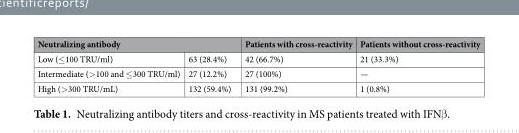table: (36, 37, 479, 94)
table column: (36, 37, 183, 94), (355, 37, 479, 94), (237, 37, 355, 94), (183, 37, 237, 94)
table column header: (36, 37, 479, 65)
table row: (36, 50, 479, 65), (36, 65, 479, 80), (36, 80, 479, 94), (36, 37, 479, 50)
table spanning cell: (355, 37, 479, 65), (237, 37, 355, 65), (36, 37, 237, 50)
